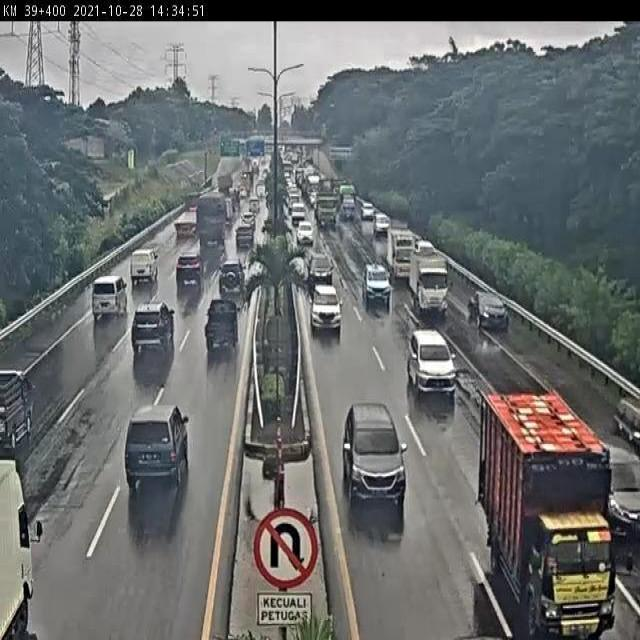big truck: (197, 198, 229, 250), (317, 197, 339, 228)
car: (339, 400, 405, 505), (122, 401, 184, 488), (592, 441, 640, 543), (406, 329, 459, 408), (0, 371, 37, 445), (133, 303, 172, 353), (87, 274, 127, 322), (312, 278, 343, 338), (472, 290, 508, 334), (363, 261, 389, 312), (211, 295, 236, 344), (132, 245, 158, 292), (215, 260, 246, 297), (173, 272, 204, 299), (411, 234, 443, 258), (311, 248, 331, 281), (233, 226, 255, 250), (296, 222, 316, 246), (374, 213, 390, 235), (294, 203, 307, 228), (241, 212, 257, 231), (249, 196, 261, 215), (365, 201, 373, 220)
small truck: (480, 392, 619, 633), (0, 466, 42, 640), (408, 248, 454, 315), (174, 188, 202, 240), (390, 232, 409, 273), (339, 181, 357, 223)
